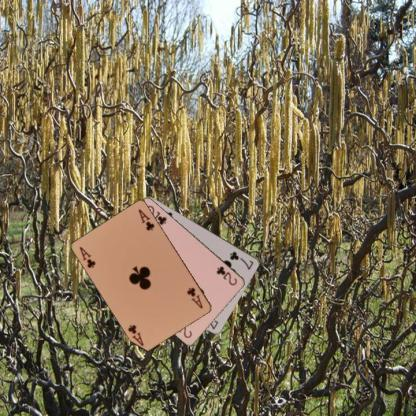2c: (214, 264, 239, 286)
7c: (227, 248, 255, 271)
Ac: (184, 285, 204, 310), (77, 244, 97, 269)
